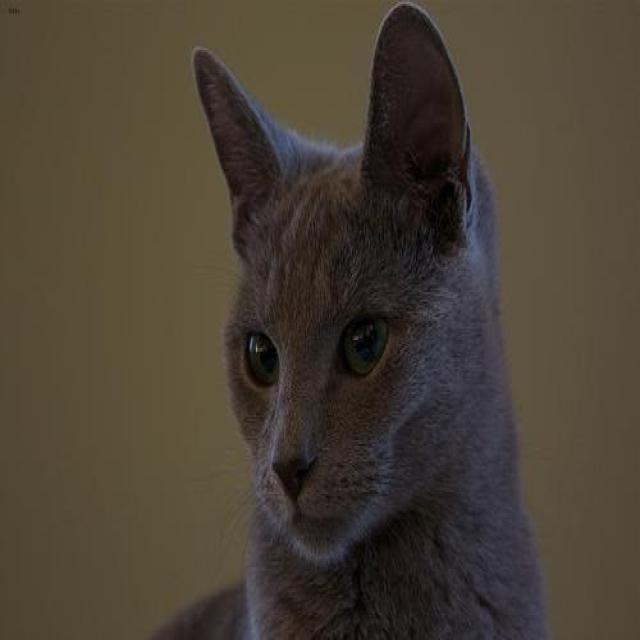cat: (165, 2, 544, 640)
